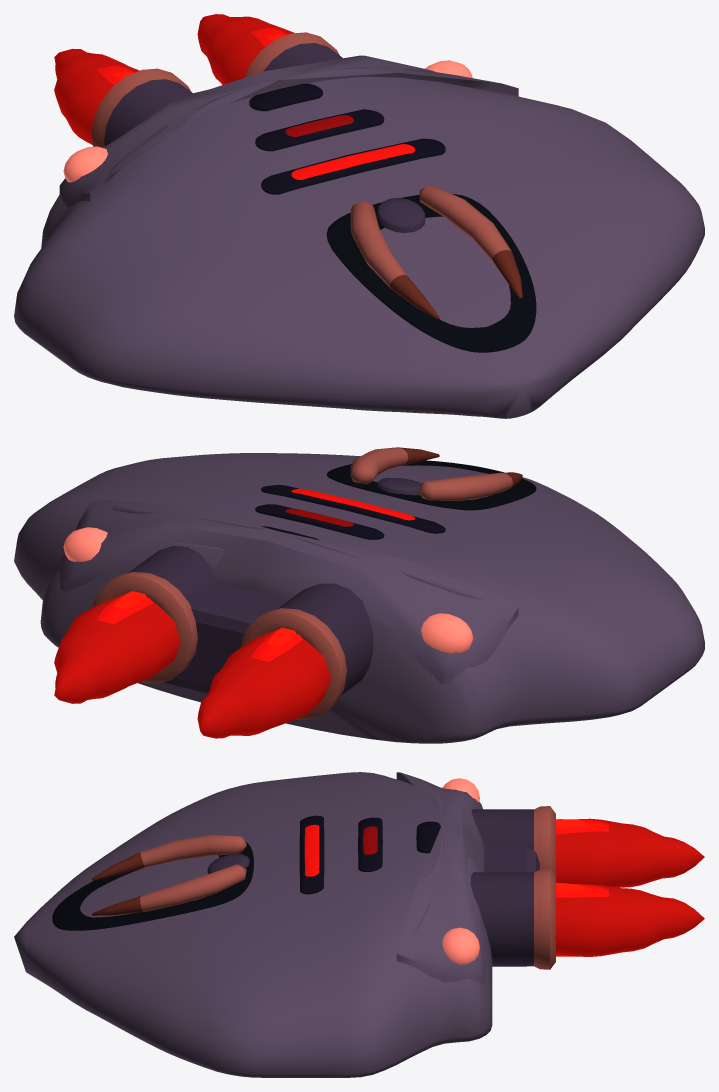
File: purple_fighter.glb
3 renders of one model, top to bottom at view 1: azimuth 30°, elevation 25°; view 2: azimuth 150°, elevation 25°; view 3: azimuth 270°, elevation 25°, orthographic. The views are drawn at different scales.
Parts seen in each view (by area): view 1: body, plate, mouth, engine, flame_tip0, flame_tip0_r, mandible, mandible_r, slit2, engine_r, slit1, slit_core2 (+4 smaller); view 2: body, plate, flame_tip0, flame_tip0_r, engine, engine_r, bridge, mouth, mandible_r, mandible, stud, slit2 (+6 smaller); view 3: body, plate, flame_tip0_r, flame_tip0, engine_r, mouth, engine, mandible, mandible_r, bridge, slit2, stud_r (+5 smaller).
Part boxes in pixels (bbox=[...]): body: bbox=[14, 77, 704, 418]; plate: bbox=[59, 55, 518, 206]; mouth: bbox=[326, 194, 536, 352]; engine: bbox=[91, 68, 193, 147]; flame_tip0: bbox=[54, 48, 139, 144]; flame_tip0_r: bbox=[197, 14, 294, 84]; mandible: bbox=[419, 185, 522, 298]; mandible_r: bbox=[350, 202, 439, 319]; slit2: bbox=[261, 138, 445, 194]; engine_r: bbox=[244, 32, 342, 77]; slit1: bbox=[255, 109, 384, 151]; slit_core2: bbox=[291, 144, 415, 179]; body: bbox=[14, 453, 704, 743]; plate: bbox=[59, 500, 518, 683]; flame_tip0: bbox=[197, 631, 331, 738]; flame_tip0_r: bbox=[54, 595, 180, 703]; engine: bbox=[241, 583, 373, 720]; engine_r: bbox=[93, 545, 217, 683]; bridge: bbox=[163, 582, 288, 693]; mouth: bbox=[326, 460, 536, 510]; mandible_r: bbox=[419, 472, 522, 500]; mandible: bbox=[350, 447, 439, 484]; stud: bbox=[421, 613, 473, 653]; slit2: bbox=[261, 485, 445, 533]; body: bbox=[14, 772, 492, 1077]; plate: bbox=[396, 772, 484, 984]; flame_tip0_r: bbox=[555, 884, 704, 956]; flame_tip0: bbox=[556, 818, 704, 887]; engine_r: bbox=[470, 869, 555, 969]; mouth: bbox=[52, 841, 253, 930]; engine: bbox=[471, 806, 555, 876]; mandible: bbox=[92, 864, 246, 915]; mandible_r: bbox=[92, 835, 246, 880]; bridge: bbox=[484, 847, 539, 966]; slit2: bbox=[299, 815, 324, 894]; stud_r: bbox=[442, 927, 479, 964].
Bounding box in the file's own units: 21.4 × 5.32 × 23.65.
